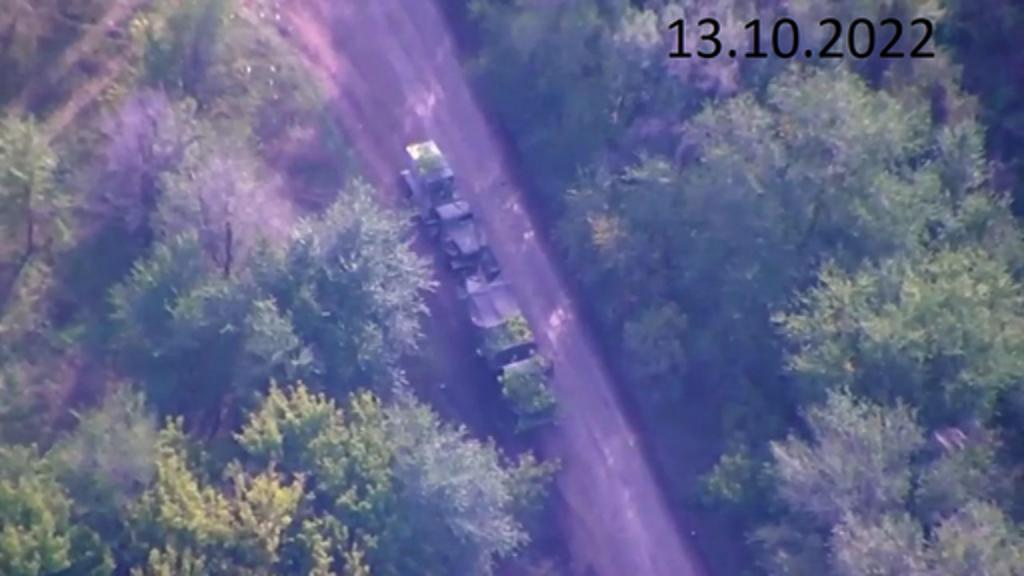MLRS: (386, 140, 500, 276)
TRUCK: (462, 282, 568, 430)
